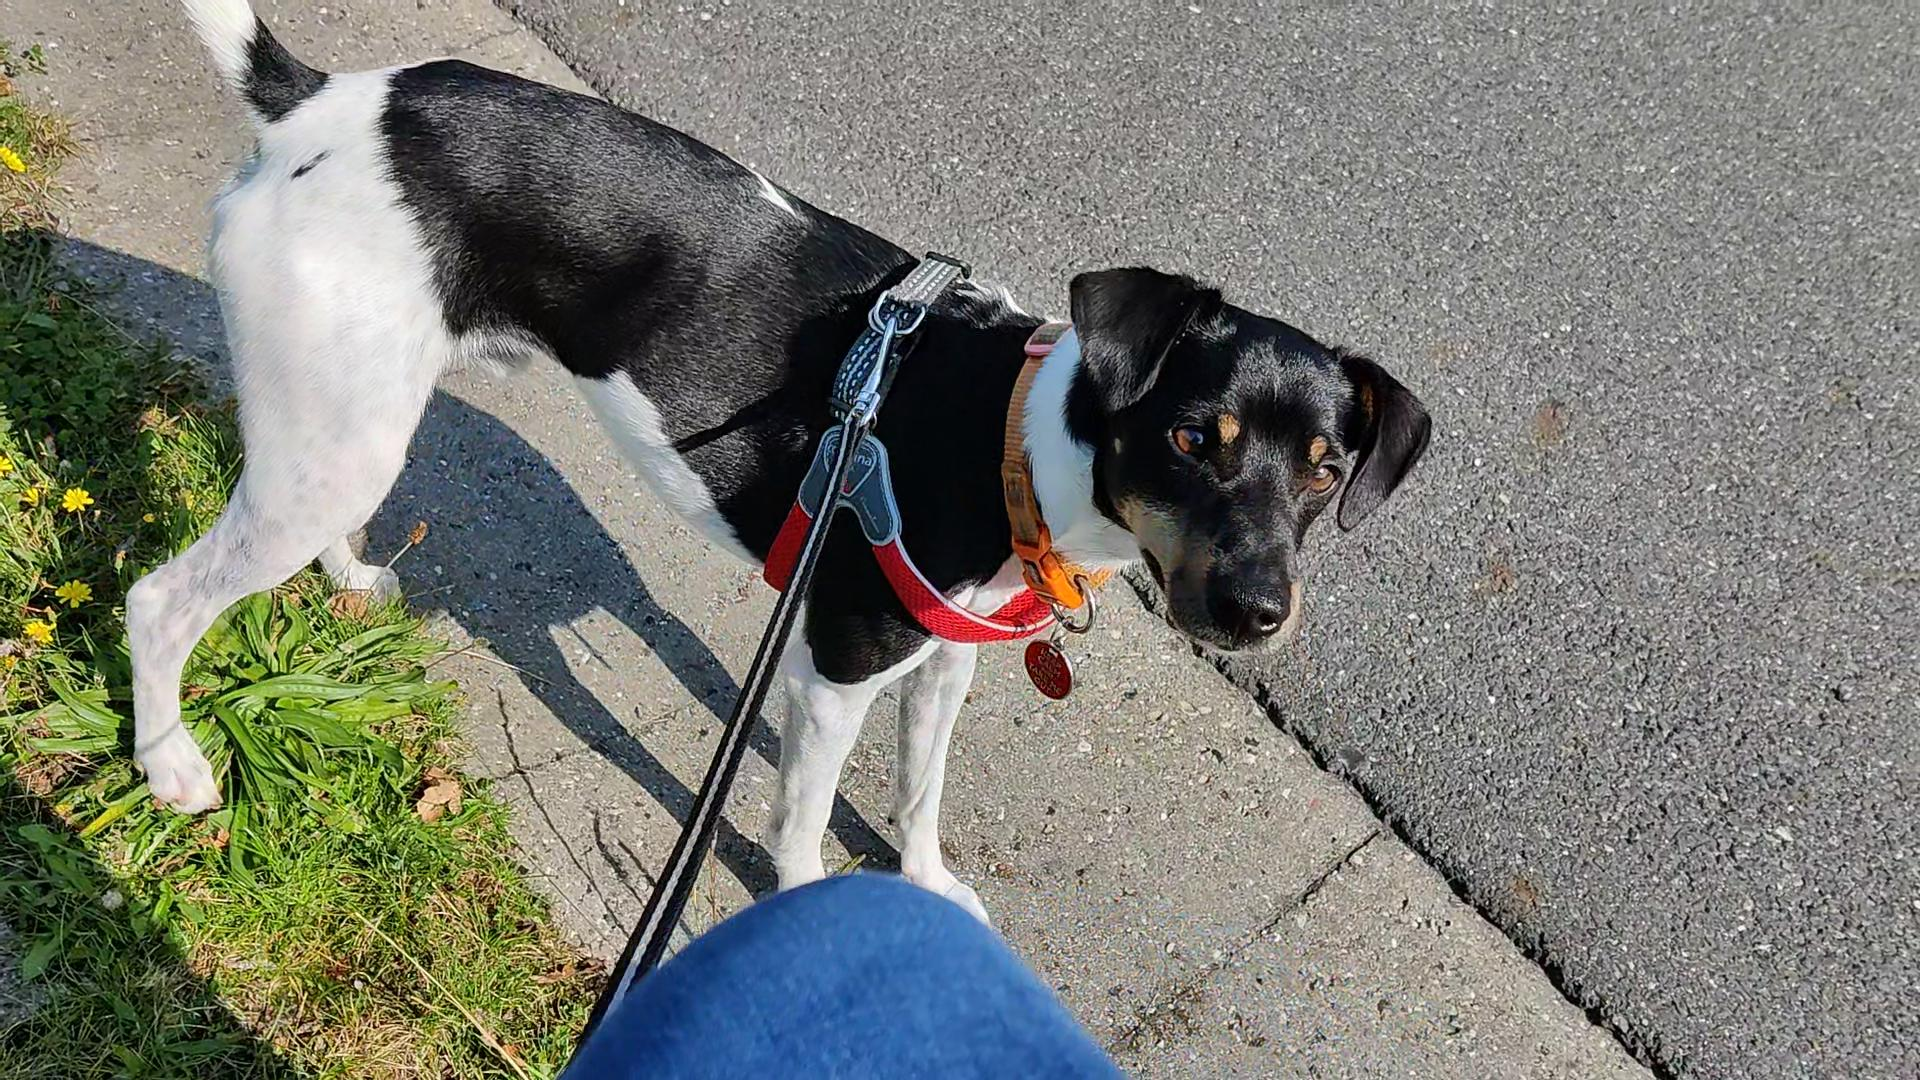Dog: (119, 0, 1433, 934)
